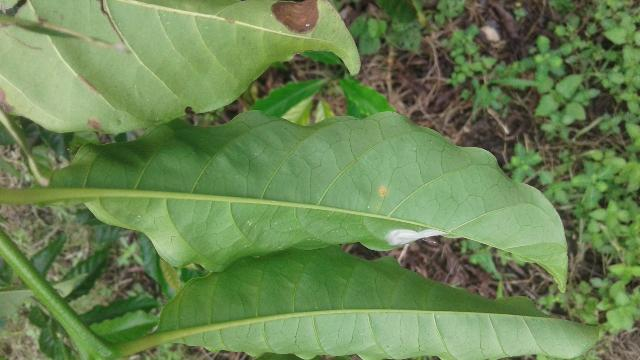rust_level_1: (49, 111, 567, 291)
